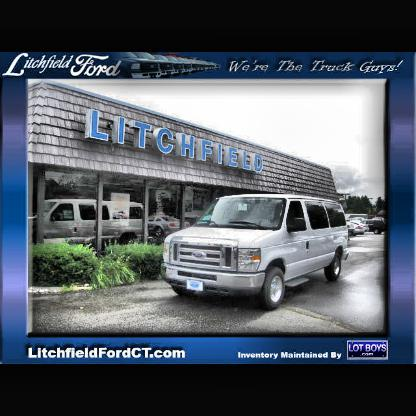Ford E-Series Wagon Van 2012: (165, 194, 349, 307)
